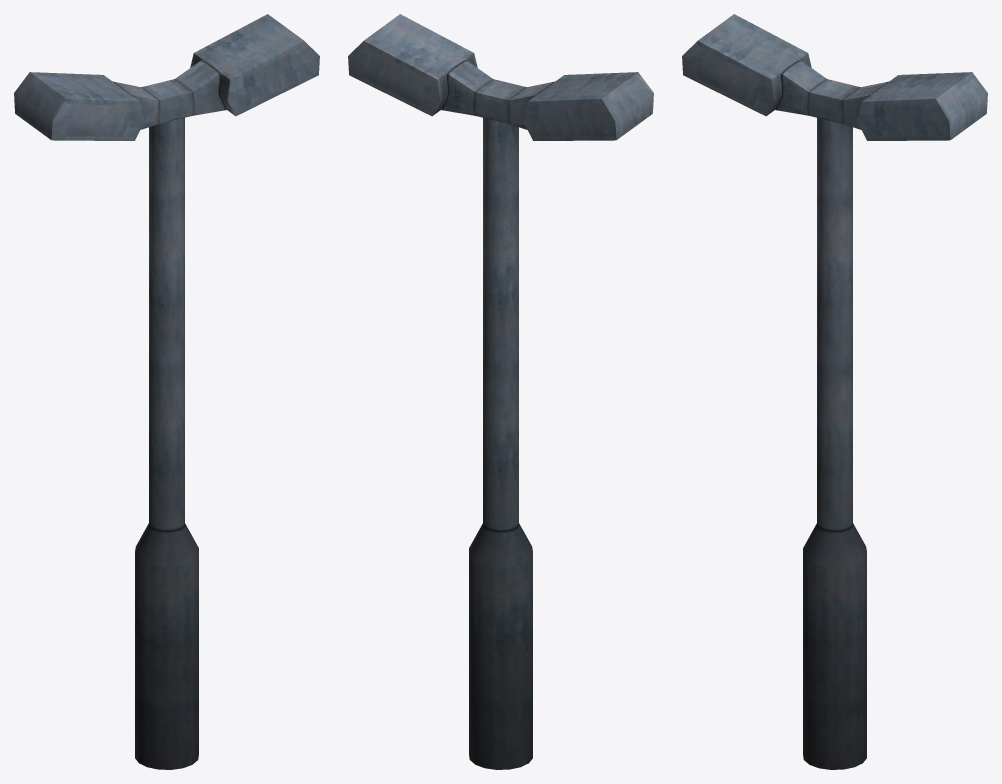
File: Laterne2Sides.gltf
The picture shows the model from 3 angles, left to right: view 1: azimuth 30°, elevation 25°; view 2: azimuth 150°, elevation 25°; view 3: azimuth 330°, elevation 25°; orthographic projection.
Visible parts, largest first — view 1: streetlamp; view 2: streetlamp; view 3: streetlamp.
Boxes of the visible parts, <box> form: streetlamp: <box>14,14,319,769</box>; streetlamp: <box>348,14,653,769</box>; streetlamp: <box>682,14,987,769</box>.
Bounding box in the file's own units: 2.78 × 6.96 × 0.6962.
1 material, 1 textured.
